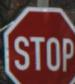Stop sign: (0, 0, 74, 83)
